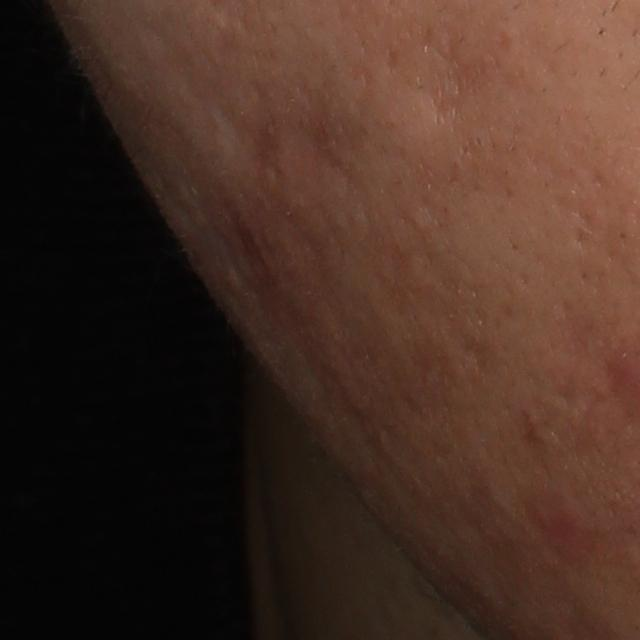atrophic_scar: (425, 24, 504, 124), (294, 110, 358, 188), (230, 117, 282, 172)
